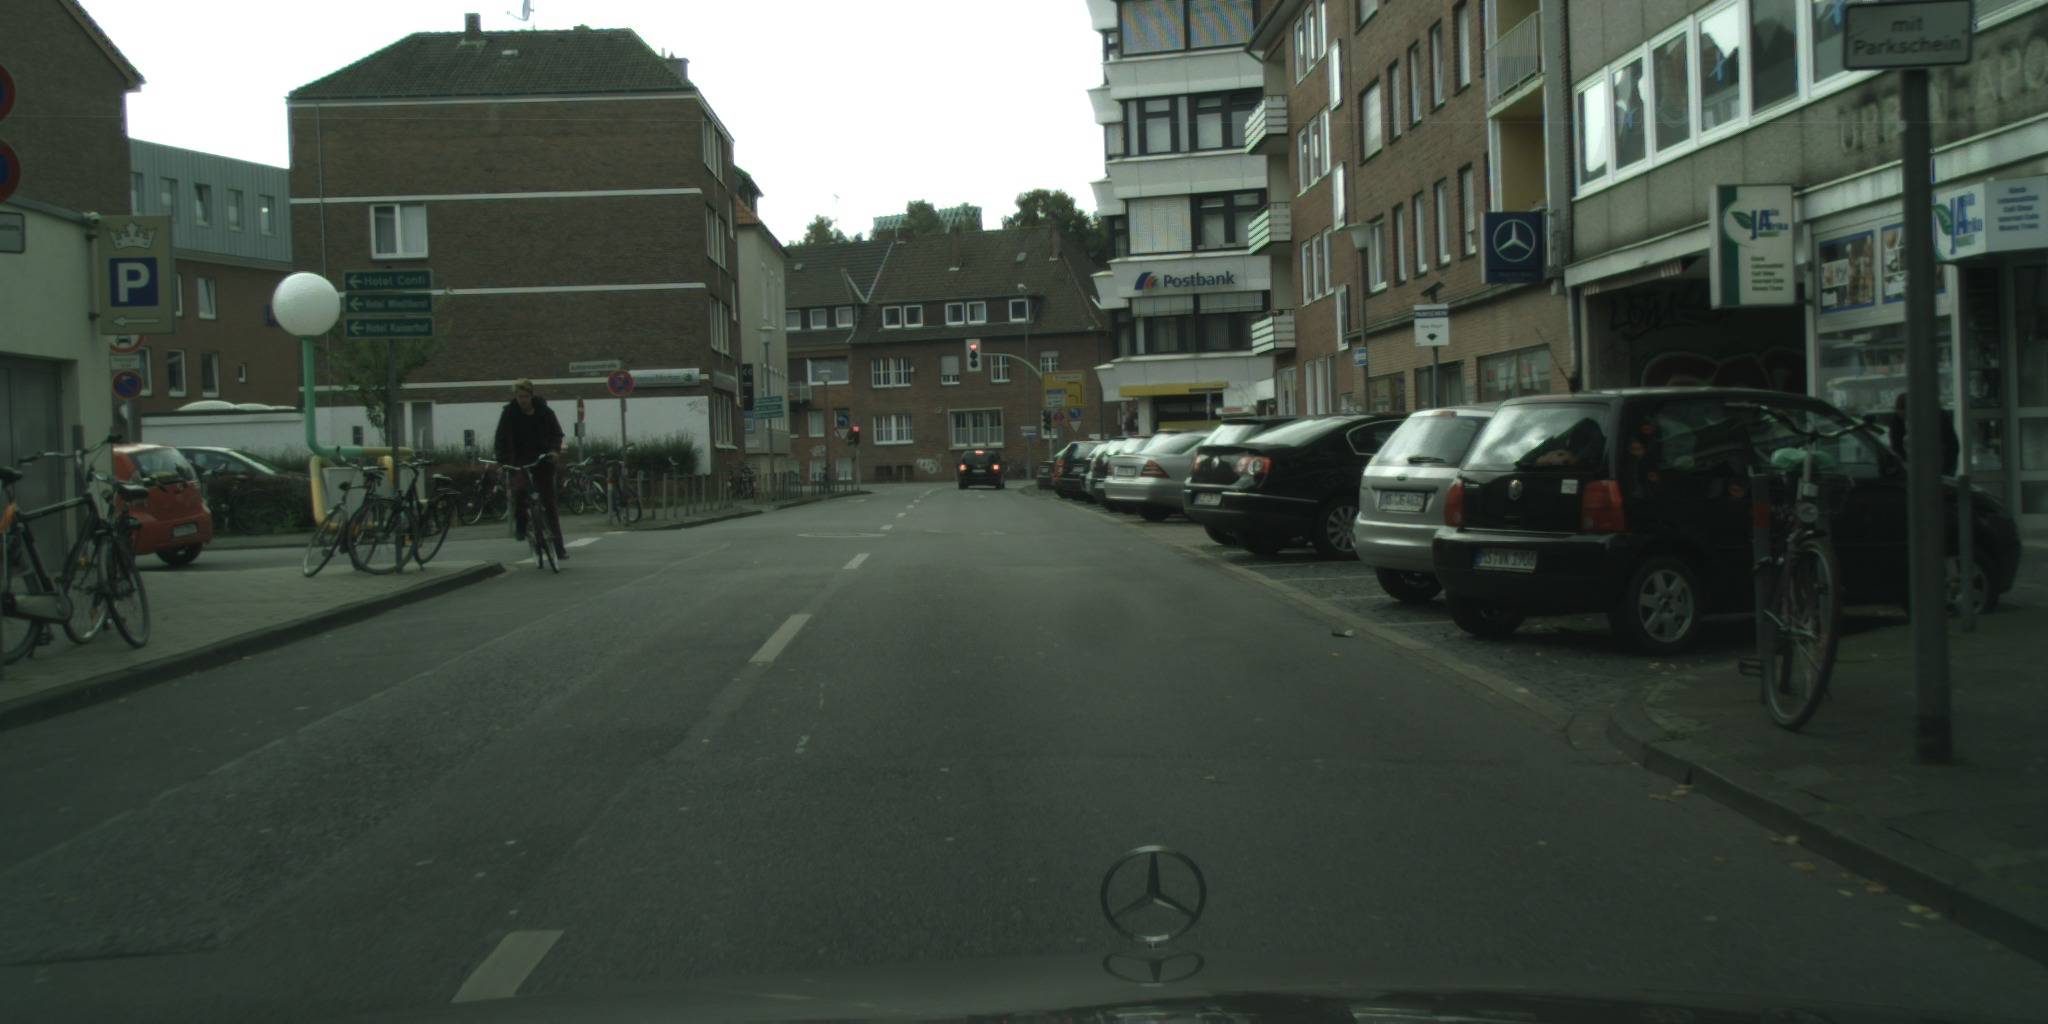bicycle: (1724, 401, 1892, 730), (0, 432, 152, 667), (57, 466, 190, 645), (337, 459, 456, 576), (302, 444, 390, 578), (492, 453, 560, 575), (197, 463, 285, 536)
car: (1430, 387, 2022, 659), (1353, 401, 1544, 603), (1182, 412, 1412, 563), (1194, 415, 1309, 548), (162, 446, 317, 535), (110, 444, 213, 571), (1107, 428, 1230, 521), (955, 450, 1009, 491), (1033, 454, 1066, 494)
person: (1889, 390, 1959, 478)
rider: (494, 379, 569, 559)
